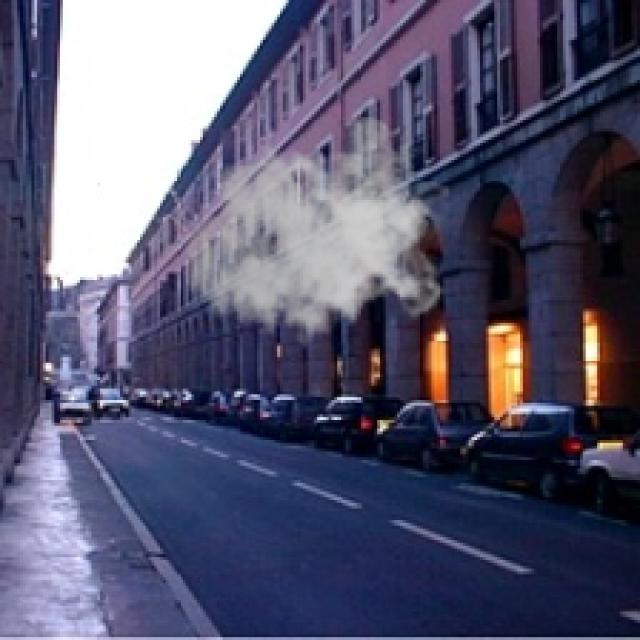smoke: (183, 117, 448, 360)
